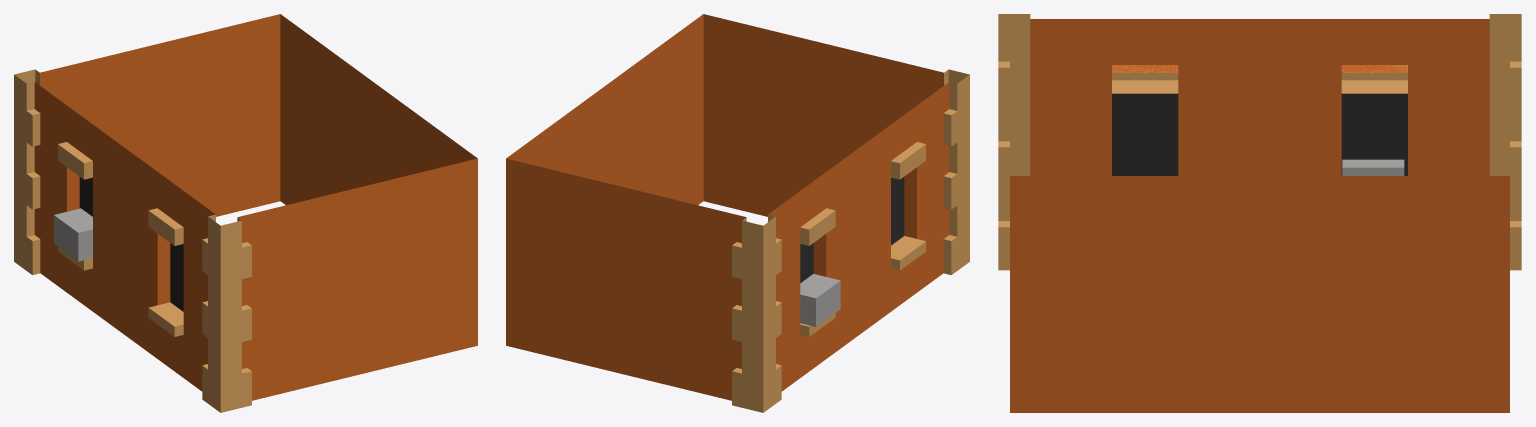
Rendered from building3_side_middle.fbx.
3 views of the same model, side by side, from view 1: azimuth 30°, elevation 25°; view 2: azimuth 150°, elevation 25°; view 3: azimuth 270°, elevation 25° (orthographic). The views are drawn at different scales.
Visible parts, largest first — view 1: building3_side_middle; view 2: building3_side_middle; view 3: building3_side_middle.
Part boxes in pixels (left/top/right/bottom): building3_side_middle: left=14, top=14, right=477, bottom=412; building3_side_middle: left=506, top=14, right=969, bottom=412; building3_side_middle: left=998, top=14, right=1521, bottom=412.
Bounding box in the file's own units: 375 × 250 × 500.
